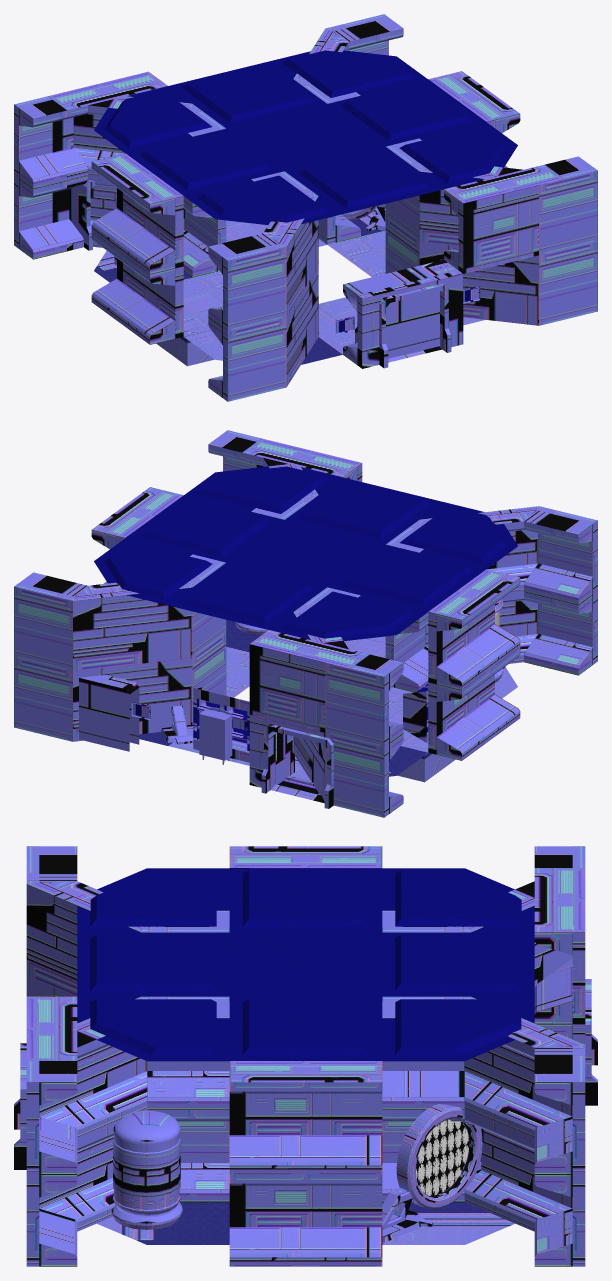
The model's file is Laboratory.glb.
3 renders of one model, top to bottom at view 1: azimuth 30°, elevation 25°; view 2: azimuth 150°, elevation 25°; view 3: azimuth 270°, elevation 25°, orthographic. The views are drawn at different scales.
Parts seen in each view (by area): view 1: Laboratory; view 2: Laboratory; view 3: Laboratory.
Boxes of the visible parts, x1,y1,x2,y2 form: Laboratory: [14, 14, 597, 401]; Laboratory: [14, 430, 597, 817]; Laboratory: [14, 846, 597, 1266].
Bounding box in the file's own units: 132 × 61.42 × 138.
Materials: 12 (11 with a texture image).
